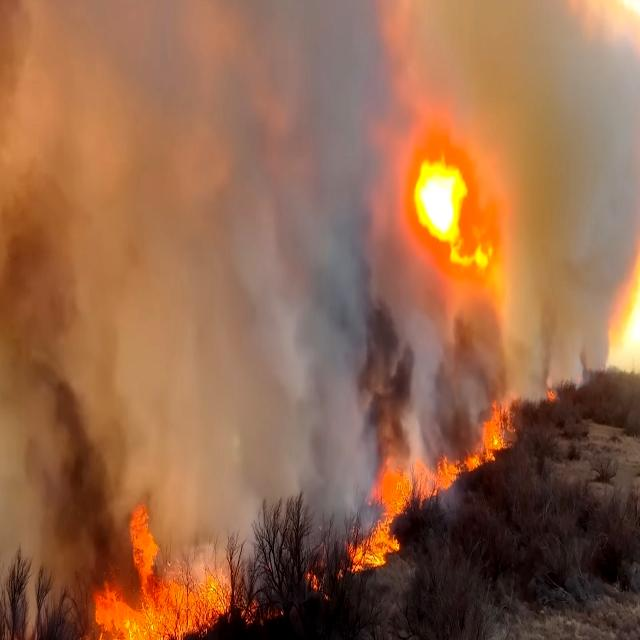fire: (82, 513, 232, 640)
smoke: (0, 0, 119, 524)
